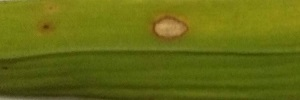RiceBlast: (147, 10, 197, 43), (39, 19, 55, 35)
